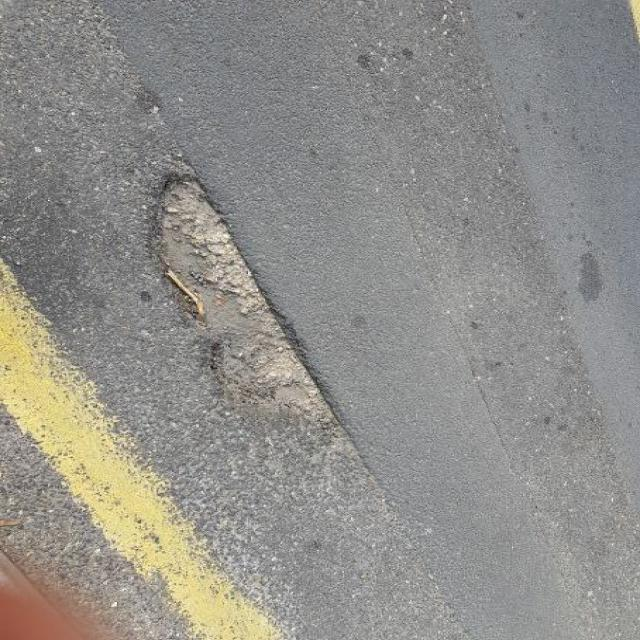Pothole: (145, 163, 360, 444)
